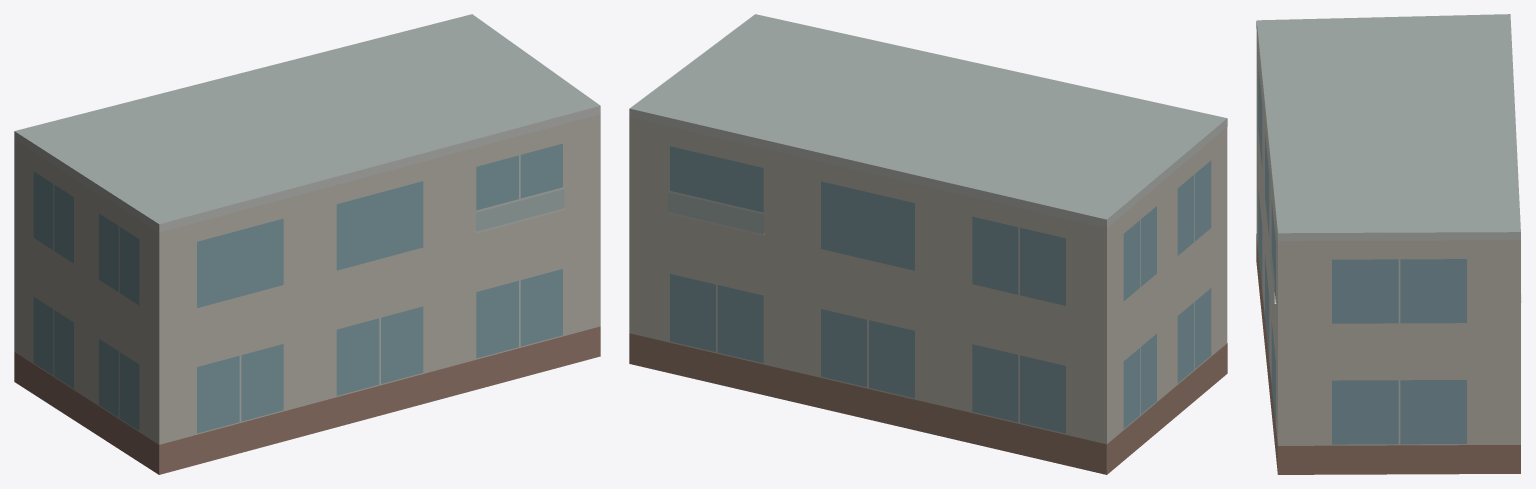
The model's file is survey-upis-32495589.glb.
3 views of the same model, side by side, from view 1: azimuth 30°, elevation 25°; view 2: azimuth 150°, elevation 25°; view 3: azimuth 270°, elevation 25° (orthographic). The views are drawn at different scales.
Visible parts, largest first — view 1: survey-upis-32495589.tmp; view 2: survey-upis-32495589.tmp; view 3: survey-upis-32495589.tmp.
Boxes of the visible parts, box(x1,y1,x2,y2) form: survey-upis-32495589.tmp: box(14, 14, 600, 474); survey-upis-32495589.tmp: box(629, 14, 1227, 474); survey-upis-32495589.tmp: box(1256, 14, 1521, 474).
Bounding box in the file's own units: 14.21 × 7.3 × 7.26.
